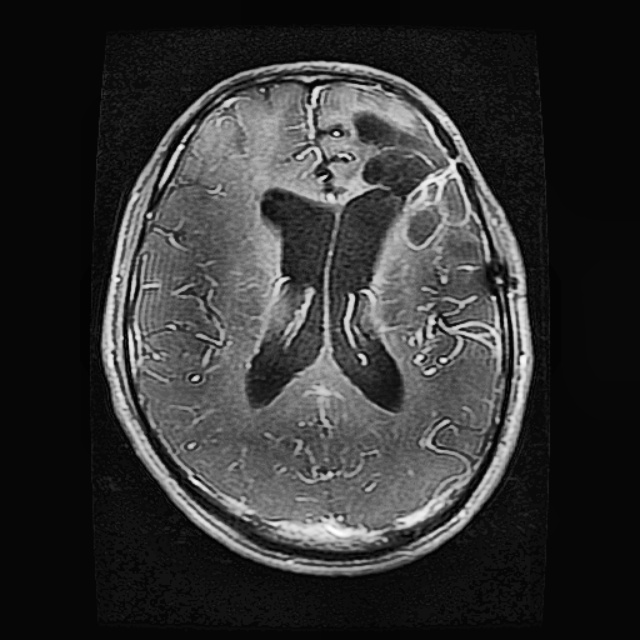Meningioma: (349, 110, 472, 250)
